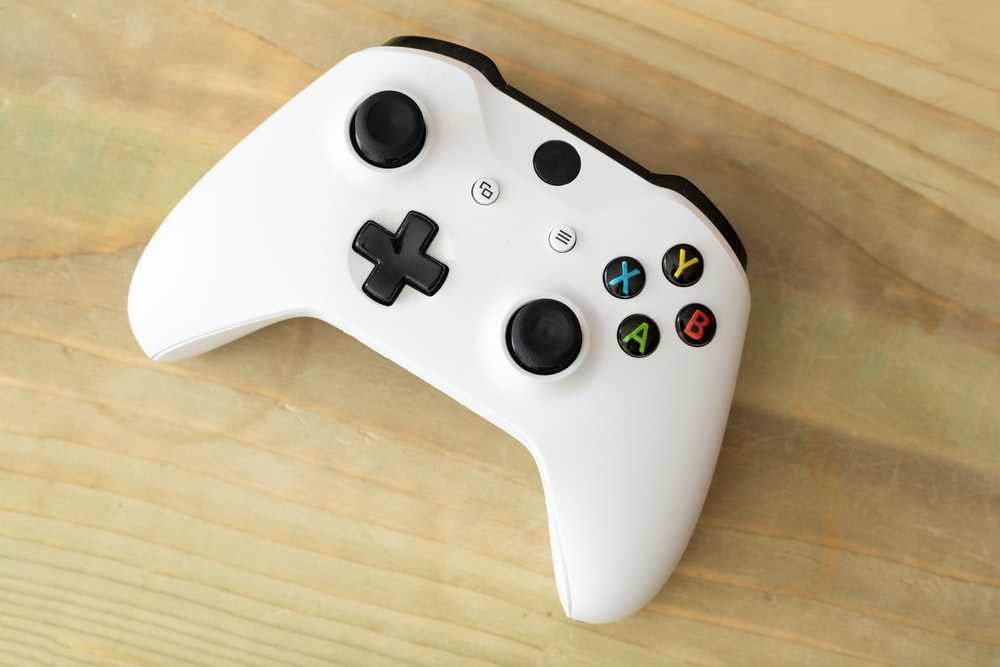controller: (126, 35, 753, 624)
